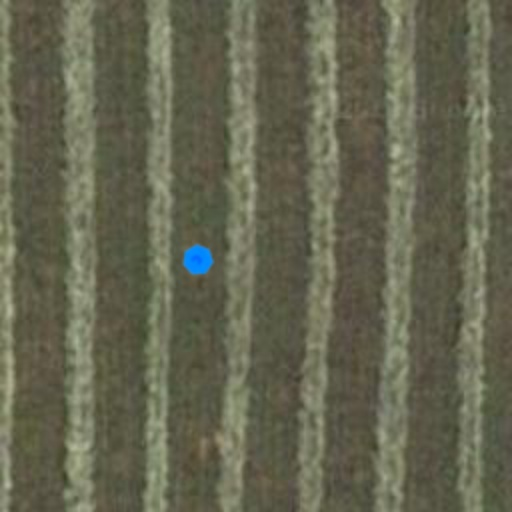heptagon: (176, 238, 220, 282)
